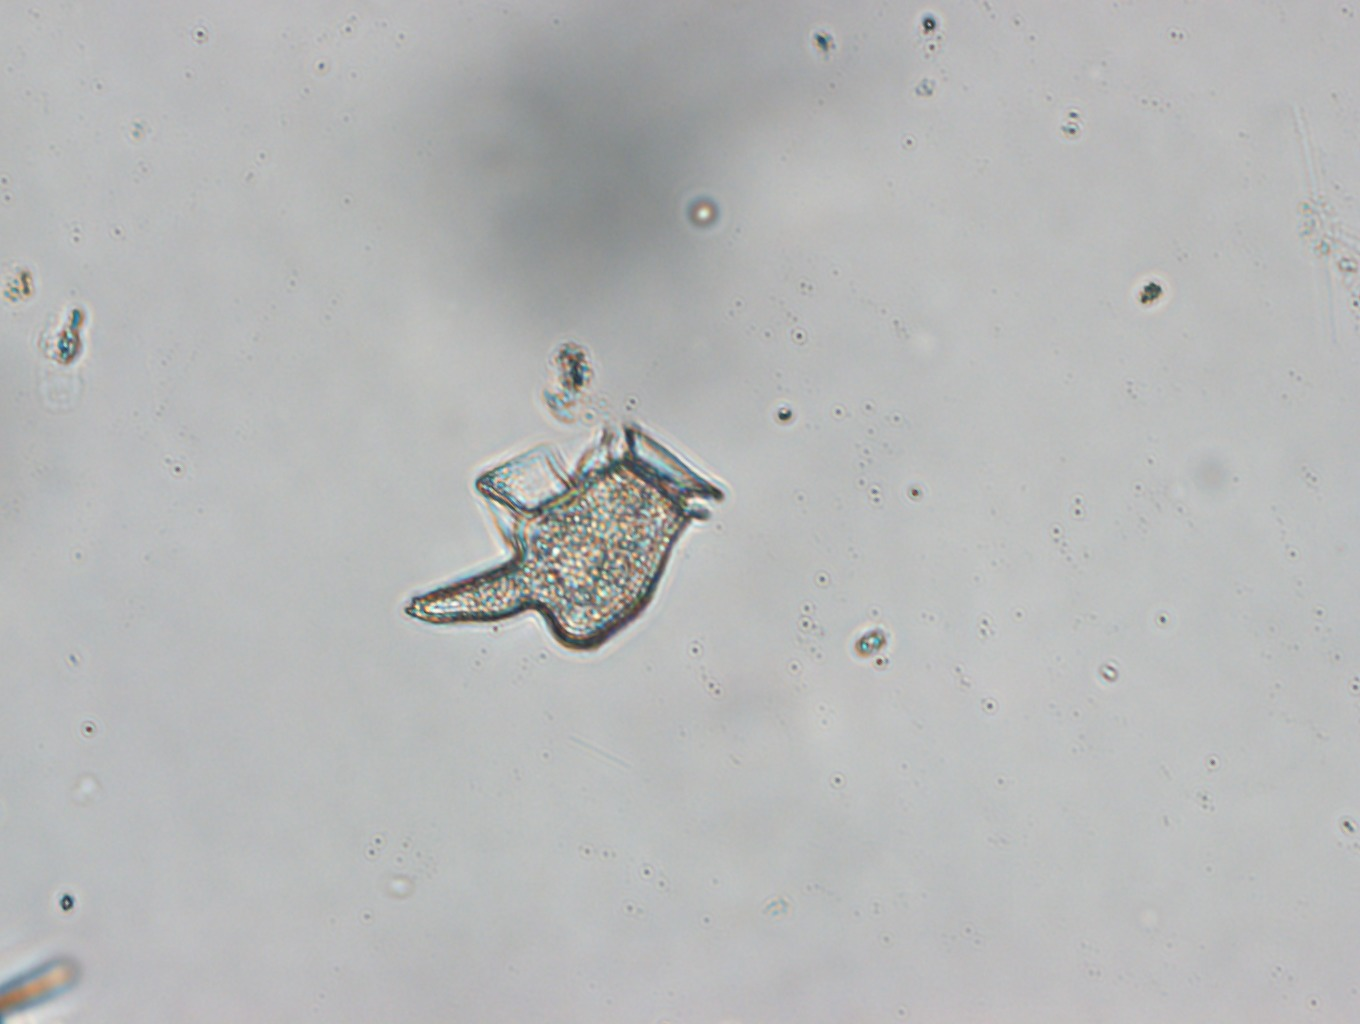dinophysis caudata: (401, 414, 728, 651)
